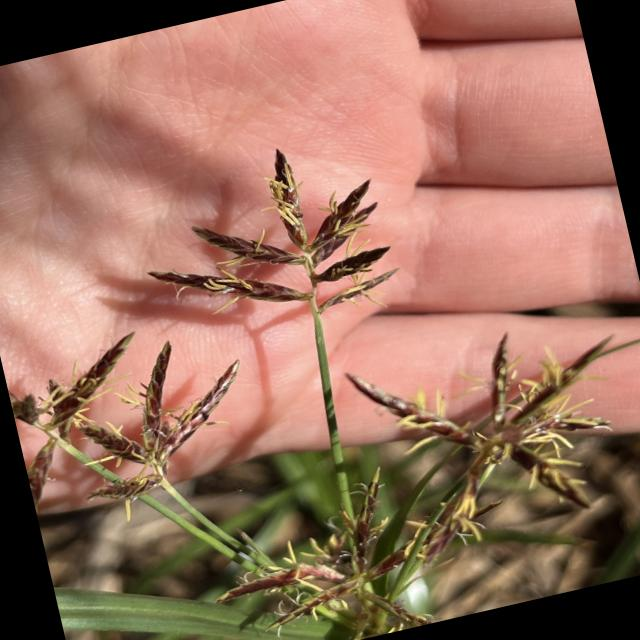cyperus: (0, 71, 640, 640), (325, 295, 640, 577), (114, 106, 445, 371), (0, 295, 282, 545), (201, 439, 516, 640)
